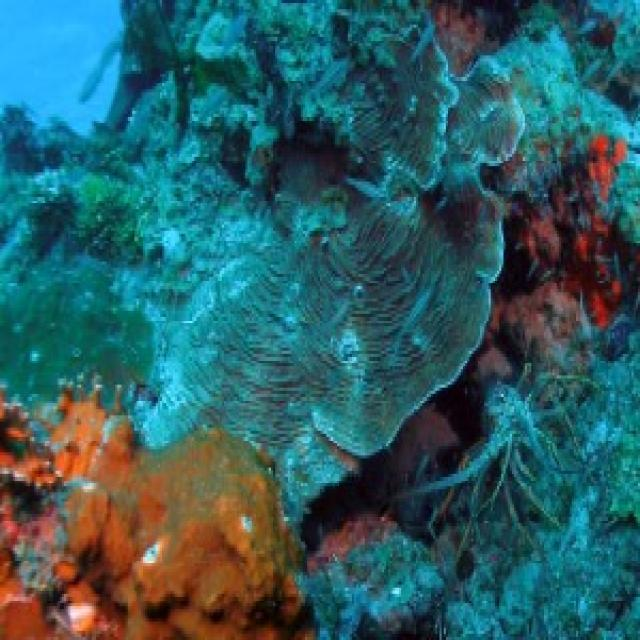lobsters: (442, 370, 590, 560)
